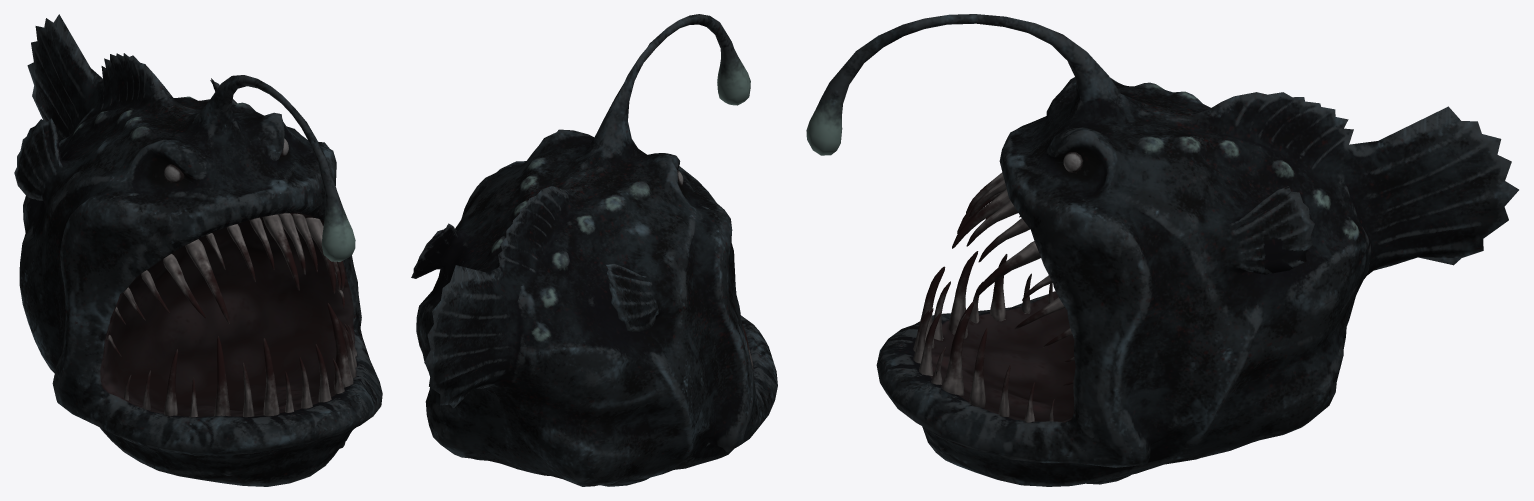
Rendered from anglerfish.glb.
3 views of the same model, side by side, from view 1: azimuth 30°, elevation 25°; view 2: azimuth 150°, elevation 25°; view 3: azimuth 270°, elevation 25° (orthographic). The views are drawn at different scales.
Parts seen in each view (by area): view 1: anglerfish; view 2: anglerfish; view 3: anglerfish.
Boxes of the visible parts, x1,y1,x2,y2 form: anglerfish: [14, 14, 382, 486]; anglerfish: [411, 14, 777, 486]; anglerfish: [806, 14, 1518, 486].
Size of the model in its own units: 0.4801 by 0.6388 by 0.9.
Materials: 1 (1 with a texture image).
